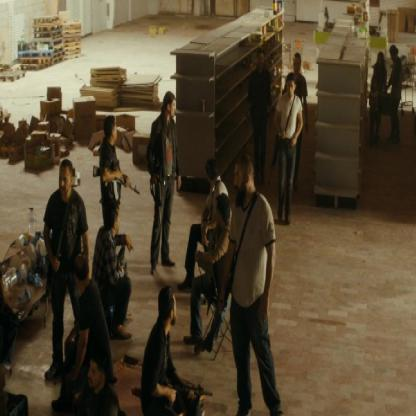Gun: (163, 370, 214, 415), (92, 164, 142, 206), (41, 248, 50, 328), (268, 129, 279, 188), (152, 160, 161, 222)
